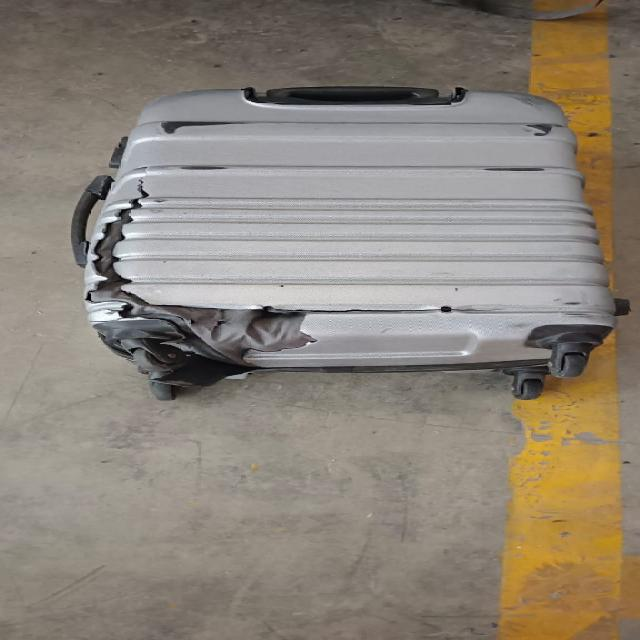Damage-bag: (86, 168, 531, 400), (158, 121, 231, 131), (531, 124, 556, 134)
